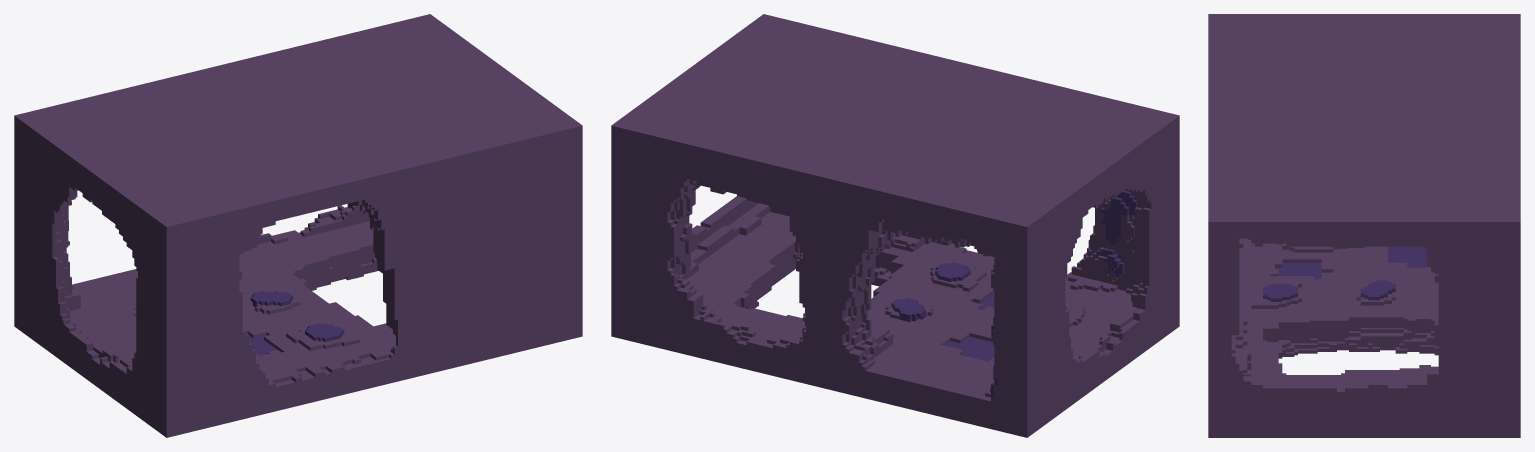
File: Level3_middle_player_cube_v1.dae
3 renders of one model, left to right at view 1: azimuth 30°, elevation 25°; view 2: azimuth 150°, elevation 25°; view 3: azimuth 270°, elevation 25°, orthographic. The views are drawn at different scales.
Visible parts, largest first — view 1: level3_middle_player_cube_v1.level_3_middle_second_player_cu; view 2: level3_middle_player_cube_v1.level_3_middle_second_player_cu; view 3: level3_middle_player_cube_v1.level_3_middle_second_player_cu.
Part boxes in pixels (x1,y1,x2,y2): level3_middle_player_cube_v1.level_3_middle_second_player_cu: [14, 14, 582, 437]; level3_middle_player_cube_v1.level_3_middle_second_player_cu: [611, 14, 1179, 437]; level3_middle_player_cube_v1.level_3_middle_second_player_cu: [1208, 14, 1520, 437].
Size of the model in its own units: 12.6 by 6.1 by 8.
Materials: 1 (1 with a texture image).
